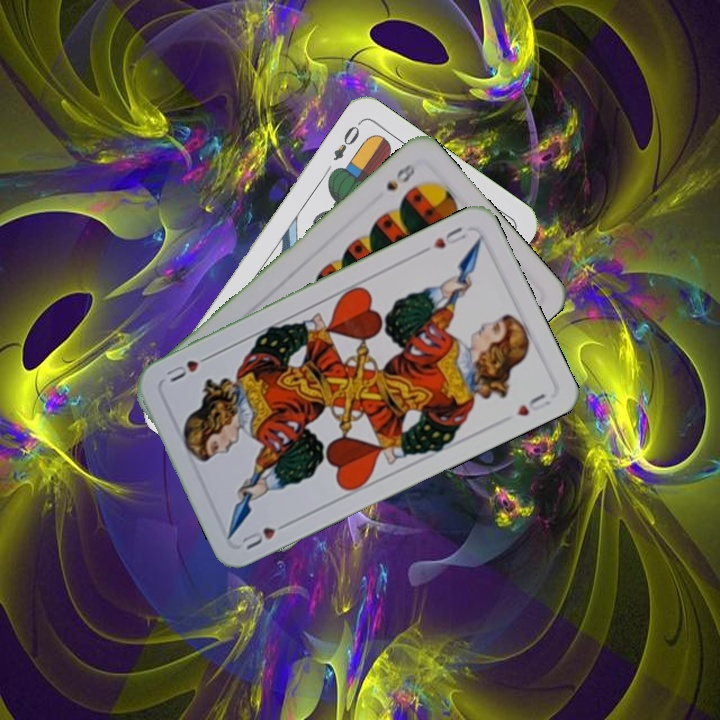EO: (329, 117, 364, 164)
HU: (237, 518, 293, 552), (418, 222, 469, 256)
S8: (382, 159, 418, 194)
